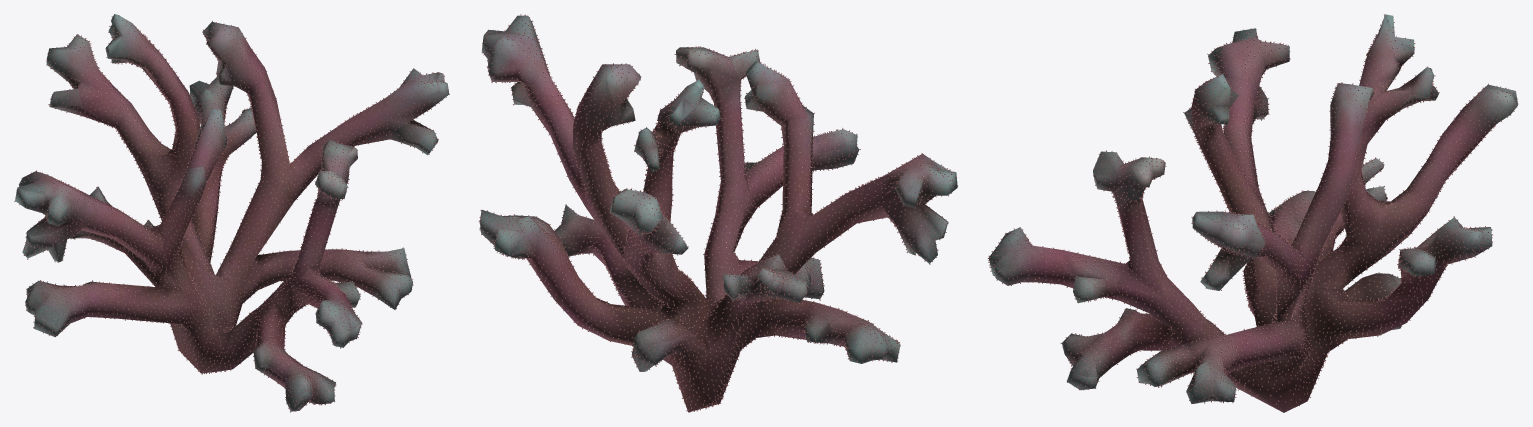
Rendered from coral_with_polyps.glb.
The picture shows the model from 3 angles, left to right: view 1: azimuth 30°, elevation 25°; view 2: azimuth 150°, elevation 25°; view 3: azimuth 270°, elevation 25°; orthographic projection. The views are drawn at different scales.
Parts seen in each view (by area): view 1: CoralWithPolyps; view 2: CoralWithPolyps; view 3: CoralWithPolyps.
Boxes of the visible parts, left/top/right/bottom form: CoralWithPolyps: left=14, top=14, right=449, bottom=412; CoralWithPolyps: left=478, top=14, right=957, bottom=412; CoralWithPolyps: left=987, top=14, right=1518, bottom=412.
Bounding box in the file's own units: 1.6 × 1.23 × 1.59.
2 materials, 2 textured.
